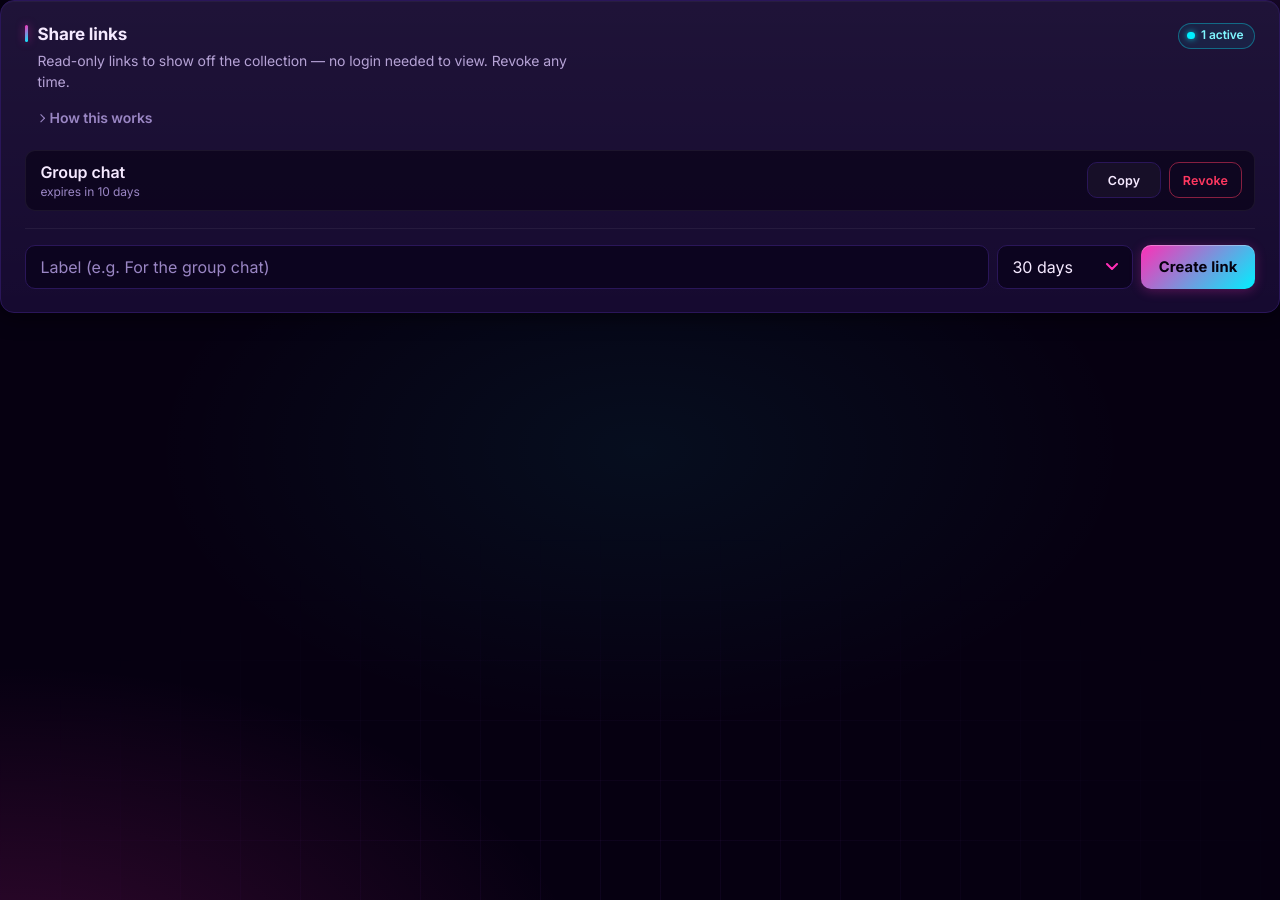
Test: ShareLinksCard › puts the link back, with the reason, when the revoke fails
The image size is (1280, 900).
Click the button with aria-label "Revoke link: Group chat" at (1205, 180), box 1169,162 -> 1242,198
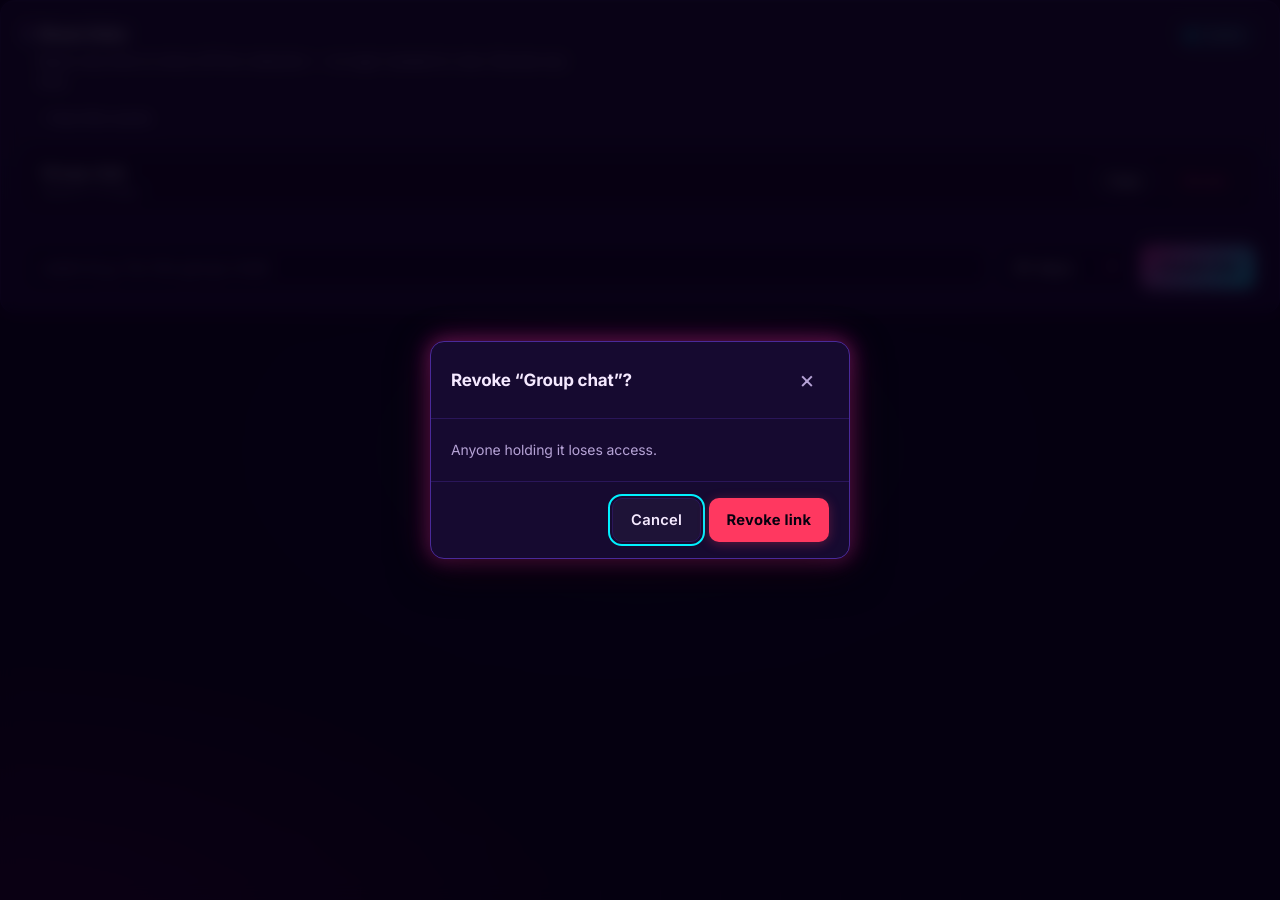
Click the button "Revoke link" at (769, 520), box 709,498 -> 829,542
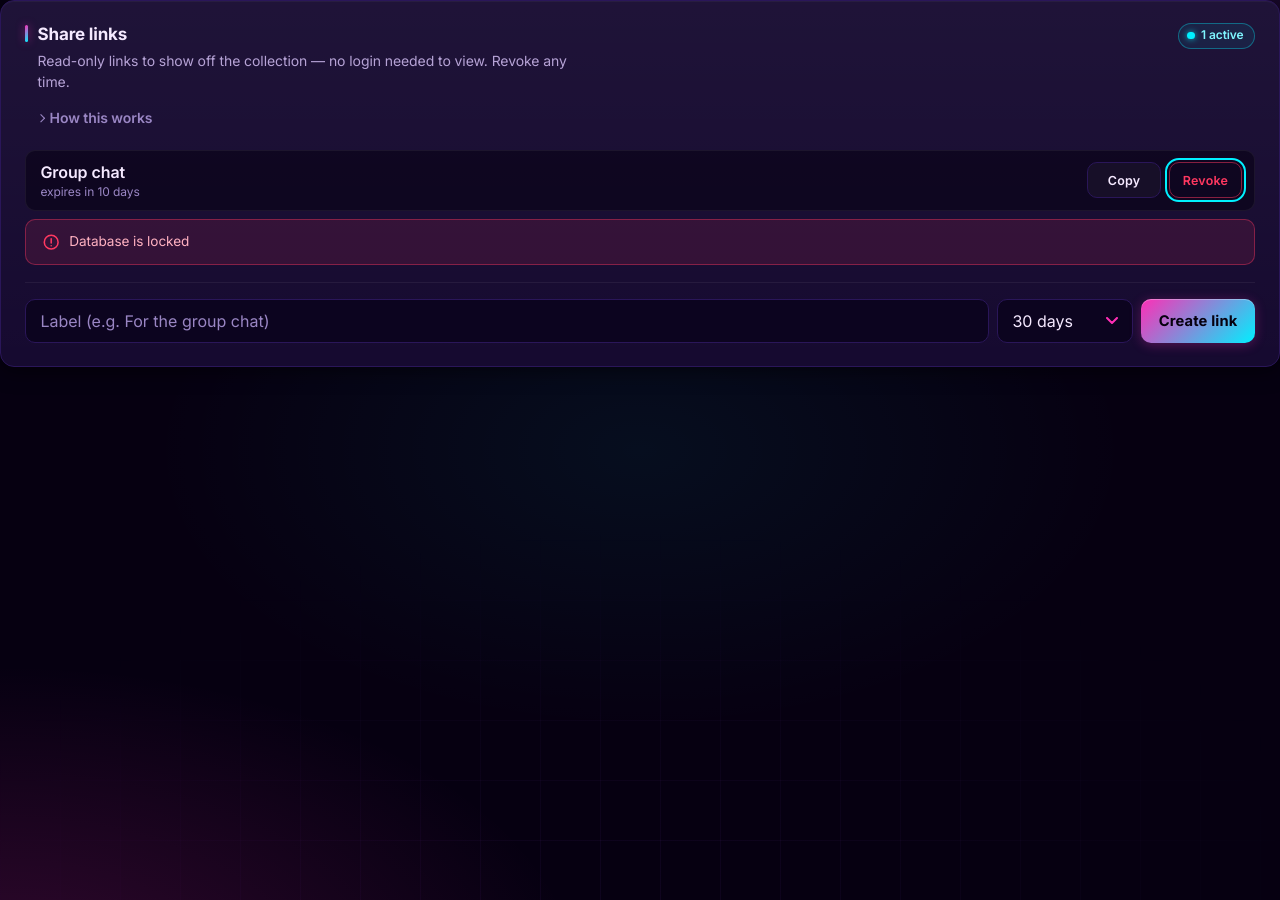
Expected: the text "Group chat" is shown, 40,162 -> 125,182
Result: the text "Database is locked" is shown at 69,232 -> 189,252
